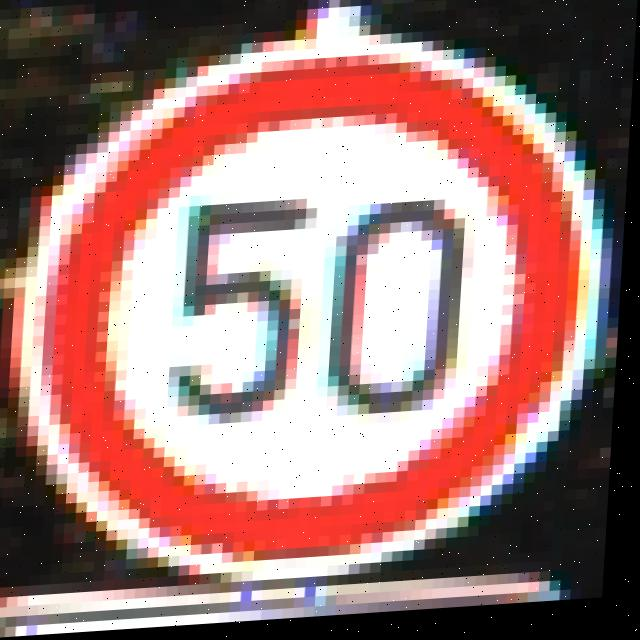speed_limit_50: (28, 14, 616, 582)
